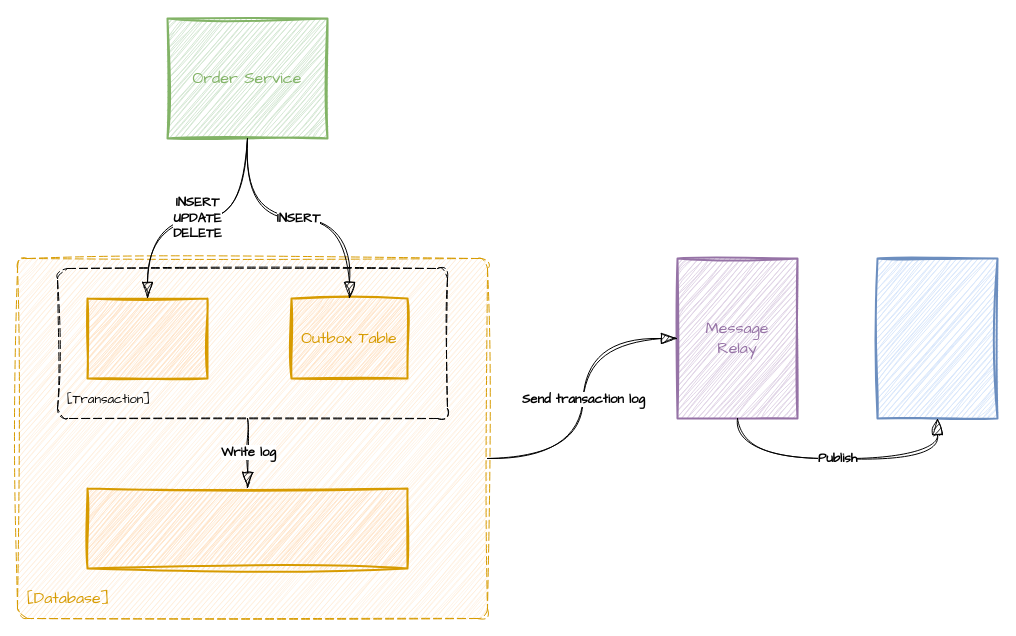
This 1016x636 diagram has some shape labels left out. Here are the shapes that lost their labels. From the top down, the box of each, then its label:
(86, 297, 208, 379): Order Table
(876, 257, 998, 419): Message Broker
(86, 487, 408, 569): Transaction Log
